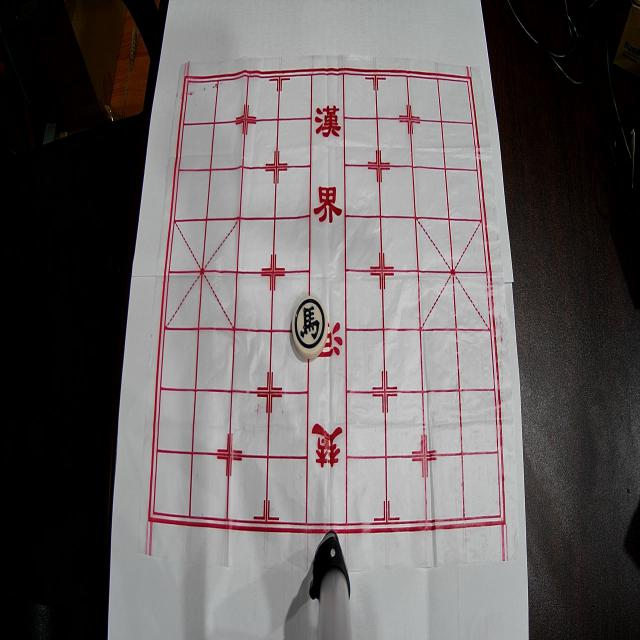black-horse: (292, 296, 328, 360)
